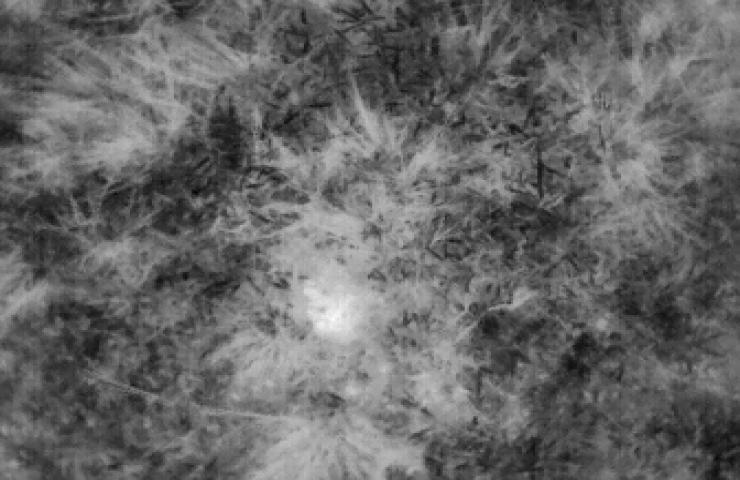landmines: (301, 289, 361, 338)
